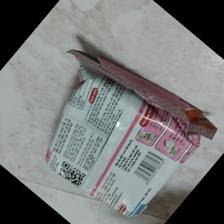Haohao: (44, 48, 215, 217)
